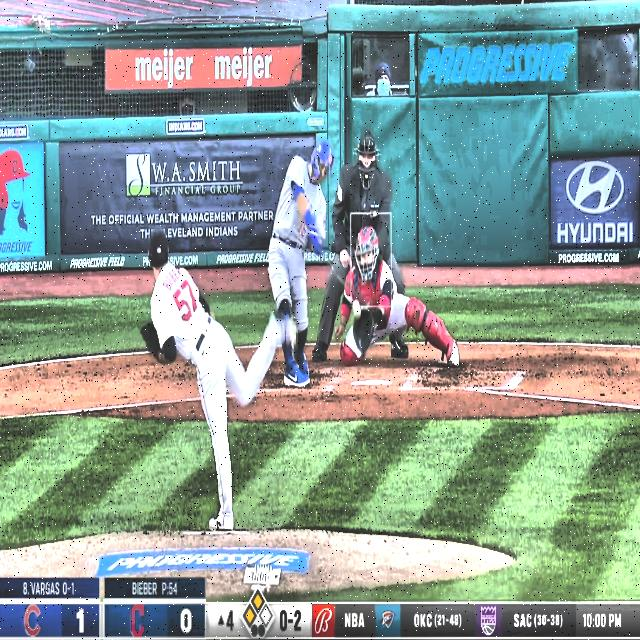baseball: (352, 298, 362, 320)
